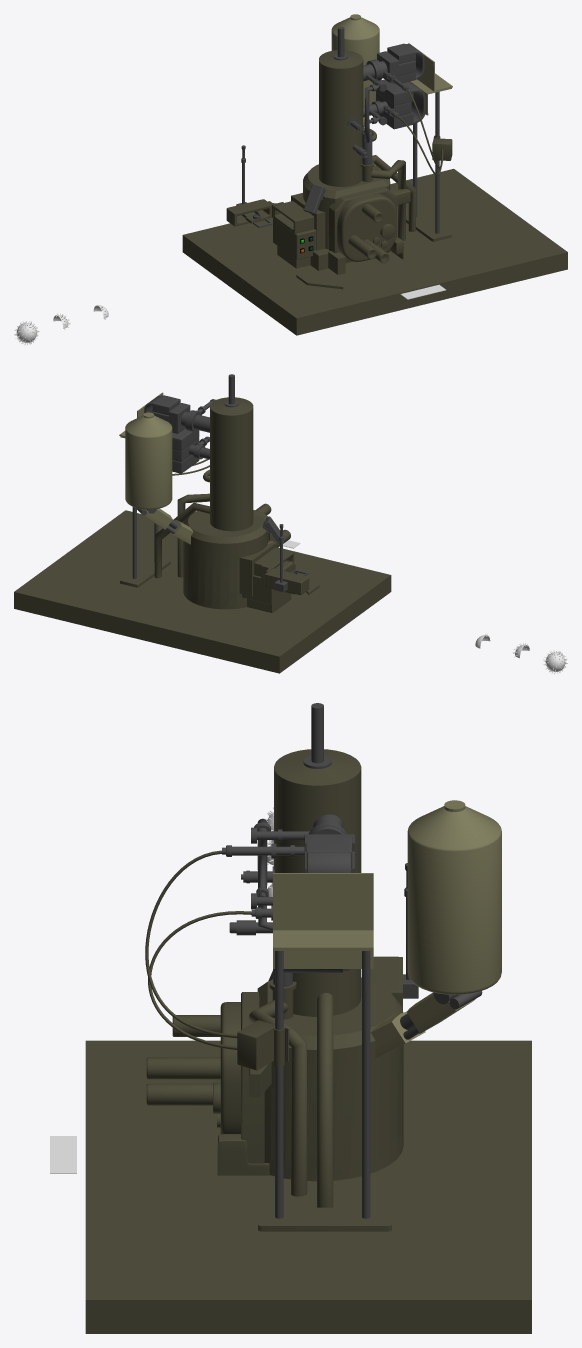
The model's file is SEMipolen.fbx.
3 views of the same model, one above another, from view 1: azimuth 30°, elevation 25°; view 2: azimuth 150°, elevation 25°; view 3: azimuth 270°, elevation 25° (orthographic). The views are drawn at different scales.
Visible parts, largest first — view 1: SEM-Exterior, Door, Sphere006; view 2: SEM-Exterior, Sphere006; view 3: SEM-Exterior, Door, Box002.
Boxes of the visible parts, <box> form: SEM-Exterior: <box>182,14,567,335</box>; Door: <box>329,186,403,263</box>; Sphere006: <box>14,321,39,345</box>; SEM-Exterior: <box>14,374,391,673</box>; Sphere006: <box>543,650,567,674</box>; SEM-Exterior: <box>85,703,531,1333</box>; Door: <box>146,992,269,1175</box>; Box002: <box>50,1136,76,1173</box>.
Size of the model in its own units: 106 by 48.16 by 44.97.
